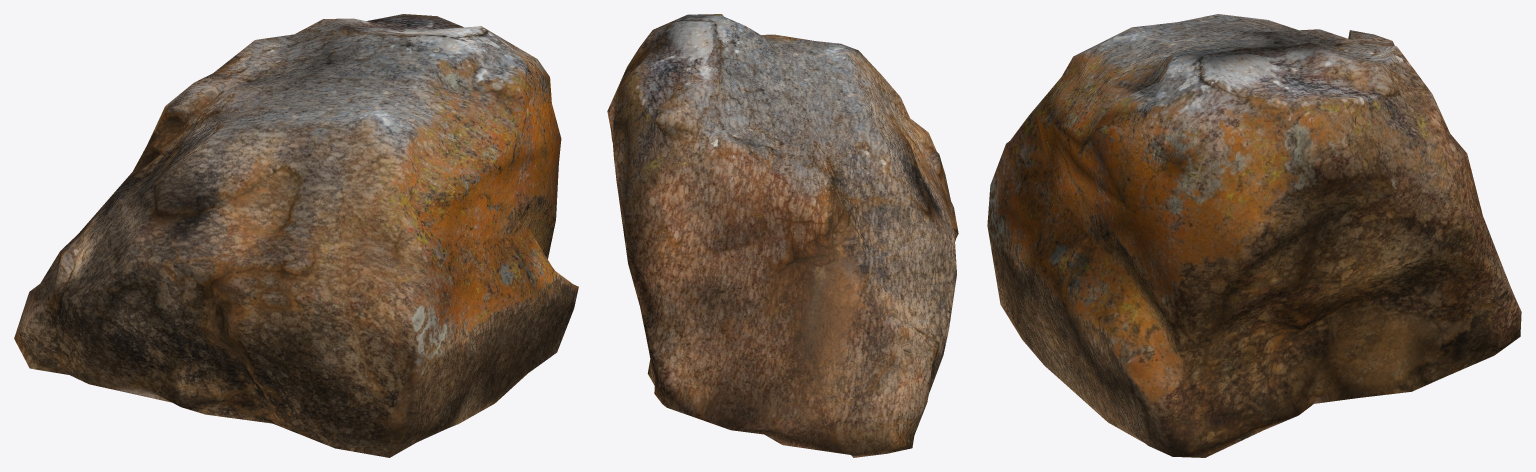
File: namaqualand_boulder_04_low.glb
The picture shows the model from 3 angles, left to right: view 1: azimuth 30°, elevation 25°; view 2: azimuth 150°, elevation 25°; view 3: azimuth 270°, elevation 25°; orthographic projection. The views are drawn at different scales.
Parts seen in each view (by area): view 1: boulder_04; view 2: boulder_04; view 3: boulder_04.
Boxes of the visible parts, x1,y1,x2,y2 form: boulder_04: (14, 14, 578, 457); boulder_04: (607, 14, 958, 457); boulder_04: (987, 14, 1521, 457).
Size of the model in its own units: 2.52 by 1.87 by 2.47.
1 material, 1 textured.
